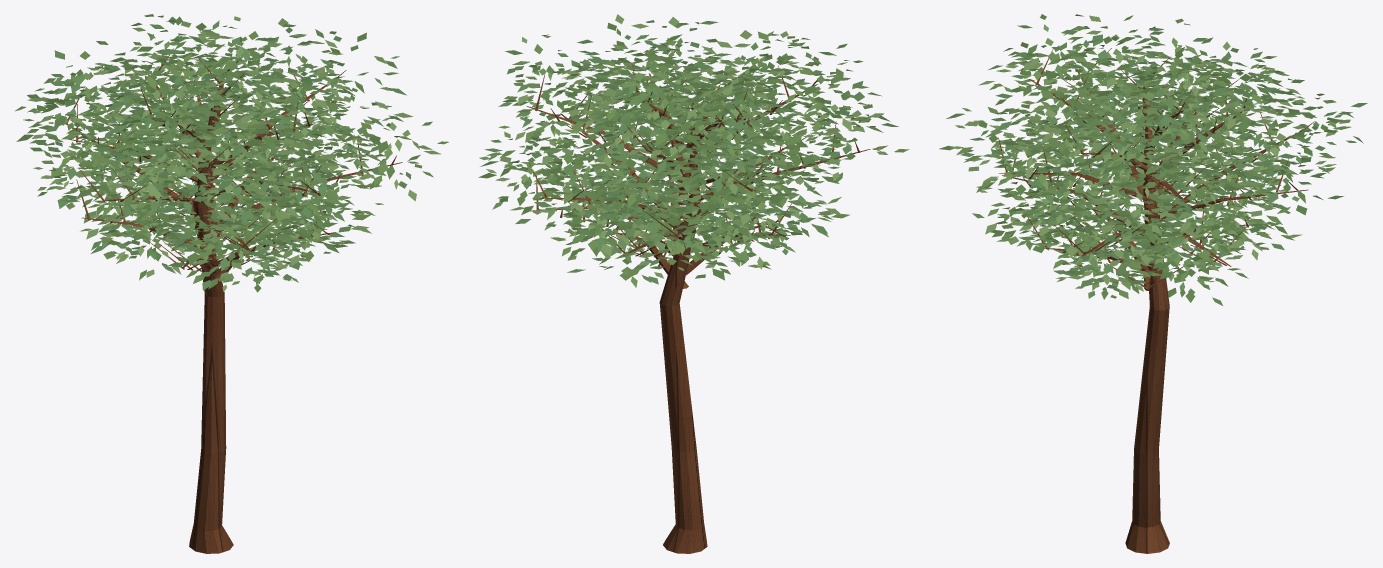
The model's file is alder.glb.
3 renders of one model, left to right at view 1: azimuth 30°, elevation 25°; view 2: azimuth 150°, elevation 25°; view 3: azimuth 270°, elevation 25°, orthographic.
Parts seen in each view (by area): view 1: alder; view 2: alder; view 3: alder.
Part boxes in pixels (x1,y1,x2,y2): alder: [14, 14, 448, 553]; alder: [478, 14, 909, 553]; alder: [939, 14, 1367, 553].
Bounding box in the file's own units: 3.52 × 4.52 × 3.55.
5 materials, 1 textured.
